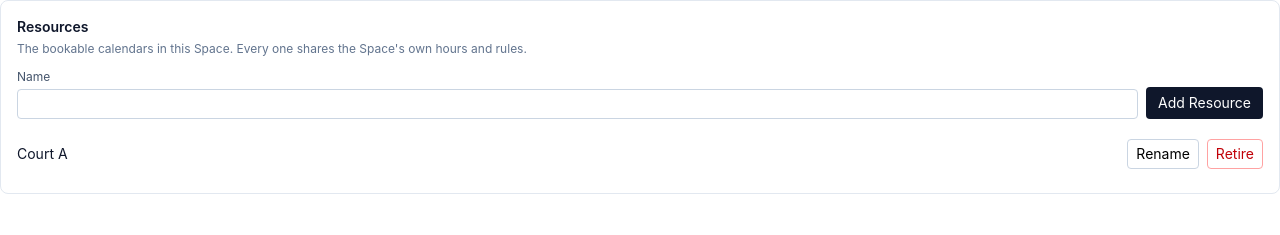
Test: ResourcesPanel › shows a conflict rename as an error on the row
expect the list item with test id "resource-1" is shown: met, box [17,131,1263,177]
Click the button with test id "resource-1-rename-start": (1163, 154) [1127,139,1199,169]
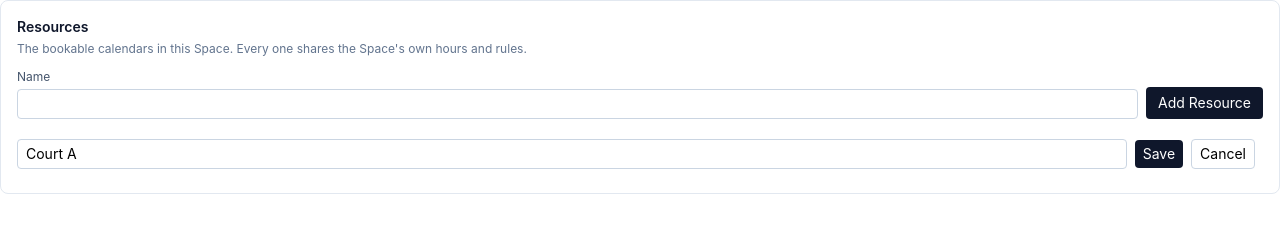
Replace the text in the field with test id "resource-1-rename-input" with "Court Z": (572, 154) [17,139,1127,169]
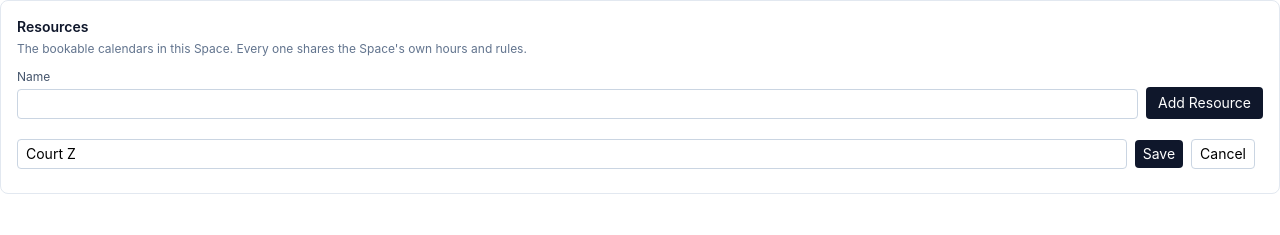
Click the button with test id "resource-1-rename-save": (1159, 154) [1135,140,1183,168]
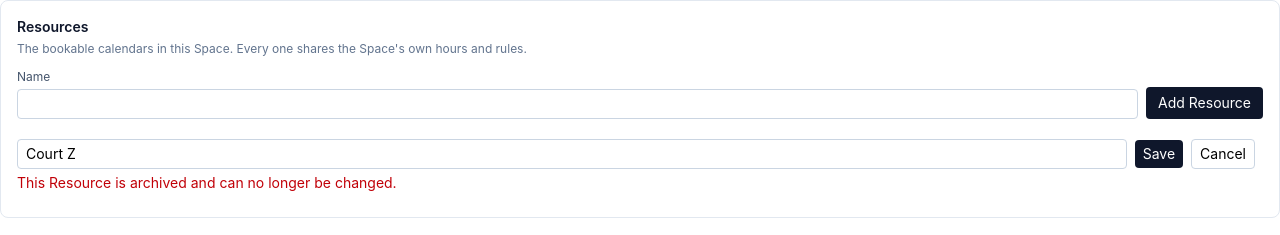
expect the message with test id "resource-1-error" reads "This Resource is archived and can no longer be changed.": met, box [17,174,397,191]
